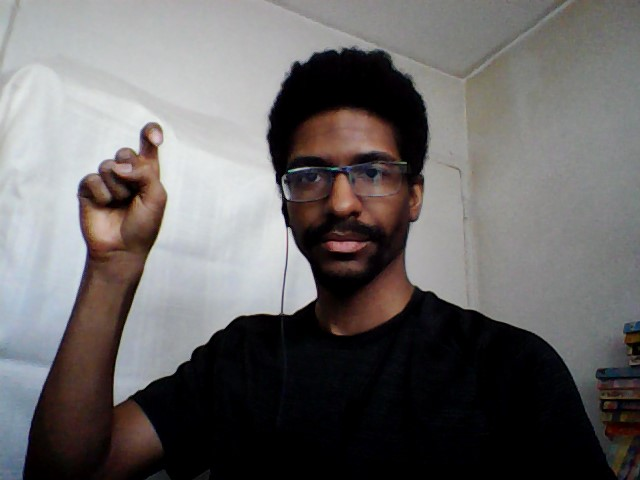x: (69, 118, 172, 260)
